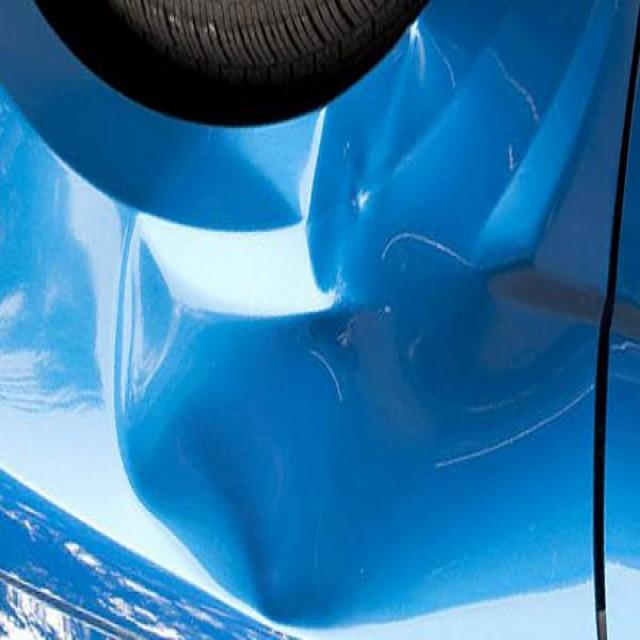dent: (105, 48, 536, 640)
